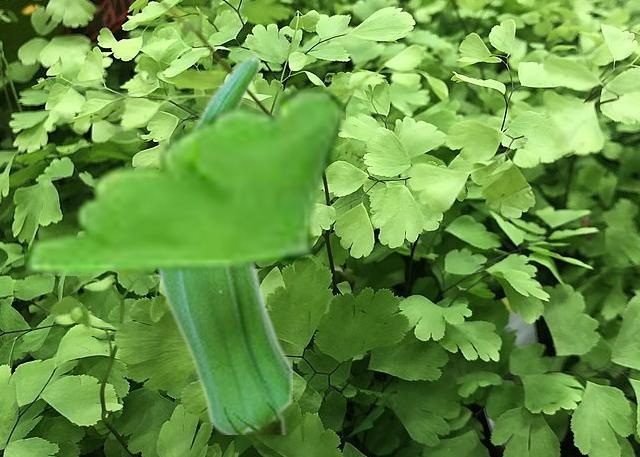okra: (155, 52, 291, 433)
